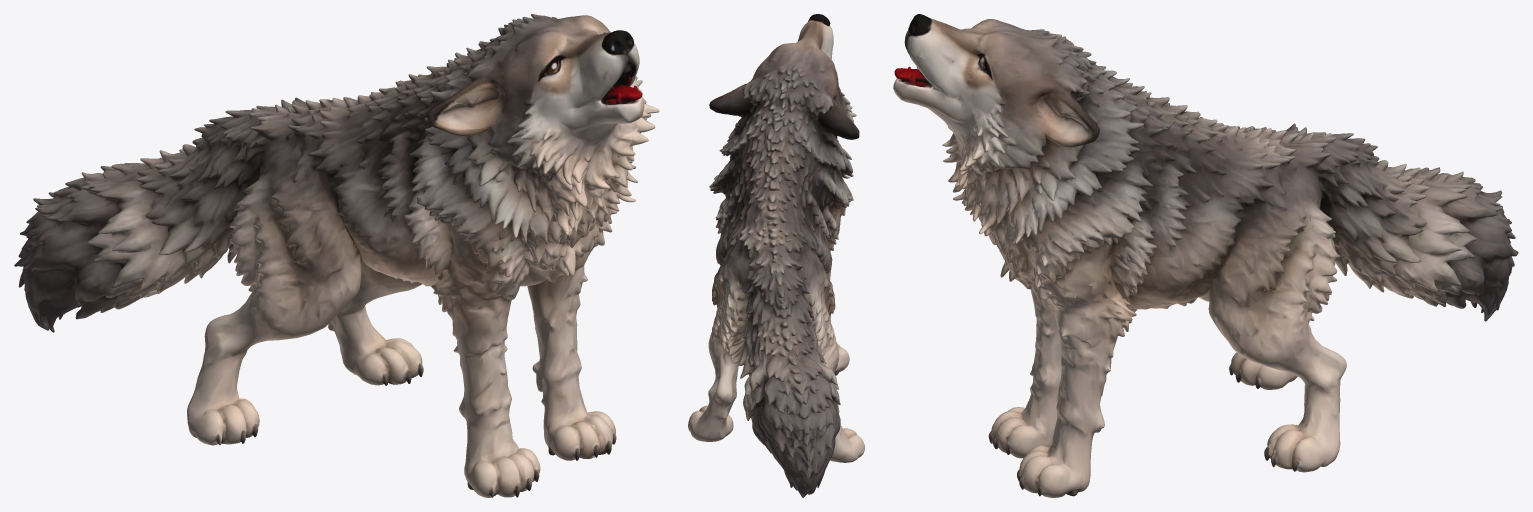
Rendered from wolf3d.glb.
The picture shows the model from 3 angles, left to right: view 1: azimuth 30°, elevation 25°; view 2: azimuth 150°, elevation 25°; view 3: azimuth 270°, elevation 25°; orthographic projection. The views are drawn at different scales.
Visible parts, largest first — view 1: tripo_node_a0bf1730-aa5f-4833-8bfa-6ca4b034562b; view 2: tripo_node_a0bf1730-aa5f-4833-8bfa-6ca4b034562b; view 3: tripo_node_a0bf1730-aa5f-4833-8bfa-6ca4b034562b.
Boxes of the visible parts, x1,y1,x2,y2 form: tripo_node_a0bf1730-aa5f-4833-8bfa-6ca4b034562b: [14, 14, 659, 497]; tripo_node_a0bf1730-aa5f-4833-8bfa-6ca4b034562b: [688, 14, 864, 497]; tripo_node_a0bf1730-aa5f-4833-8bfa-6ca4b034562b: [893, 14, 1518, 497].
Bounding box in the file's own units: 0.6785 × 0.8202 × 0.9999.
Materials: 1 (1 with a texture image).
